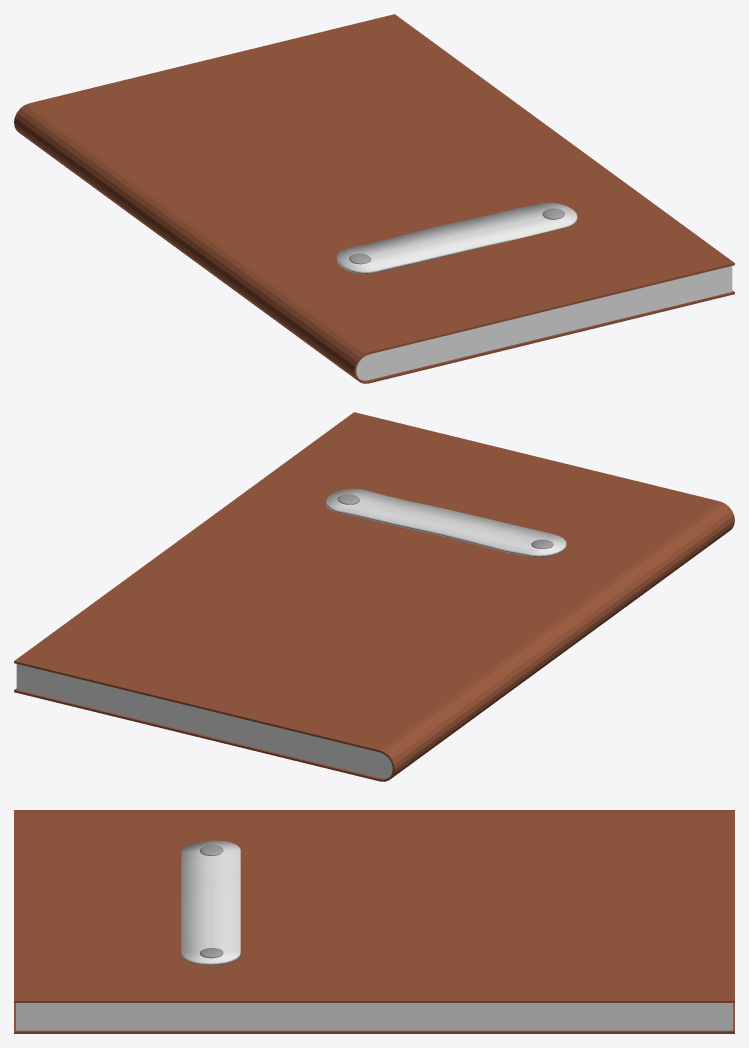
File: passportcover.gltf
3 views of the same model, one above another, from view 1: azimuth 30°, elevation 25°; view 2: azimuth 150°, elevation 25°; view 3: azimuth 270°, elevation 25° (orthographic). The views are drawn at different scales.
Parts seen in each view (by area): view 1: Cube.007; view 2: Cube.007; view 3: Cube.007.
Part boxes in pixels (left/top/right/bottom): Cube.007: left=14, top=14, right=734, bottom=383; Cube.007: left=14, top=412, right=734, bottom=781; Cube.007: left=14, top=810, right=734, bottom=1033.
Bounding box in the file's own units: 1.33 × 0.1272 × 2.06.
